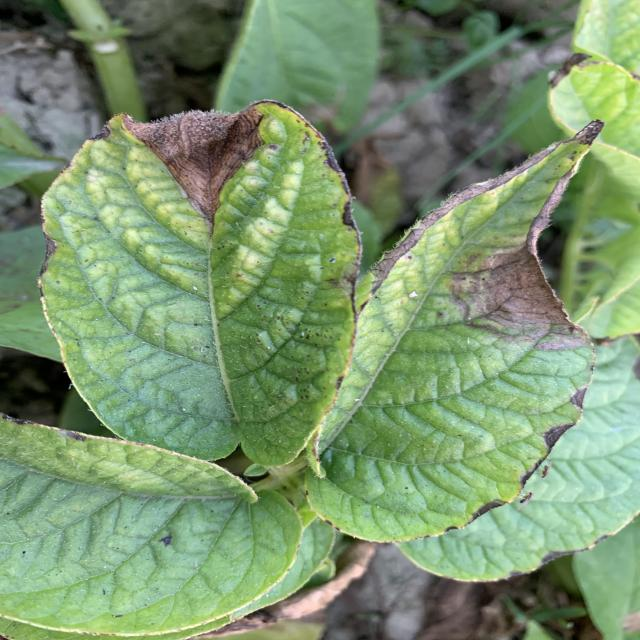lateblight: (123, 105, 263, 228), (453, 240, 587, 350), (543, 421, 577, 452), (570, 388, 587, 411)
